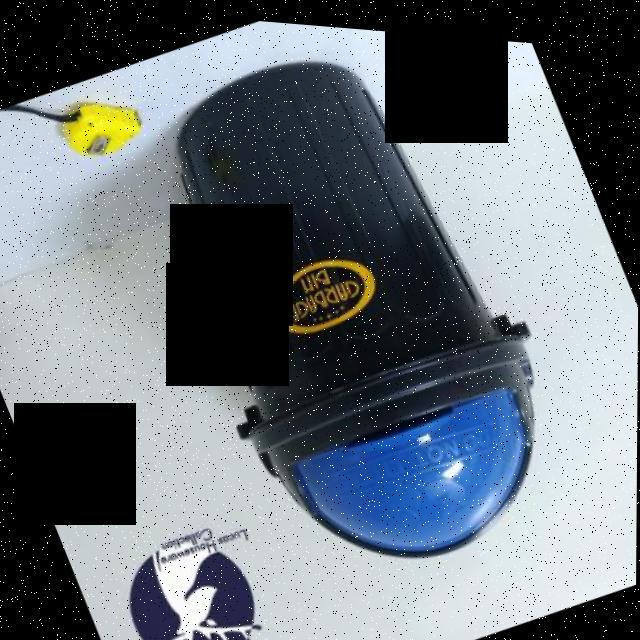bin: (107, 7, 624, 629)
